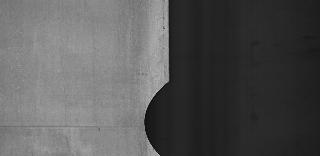welding line: (2, 122, 158, 136)
